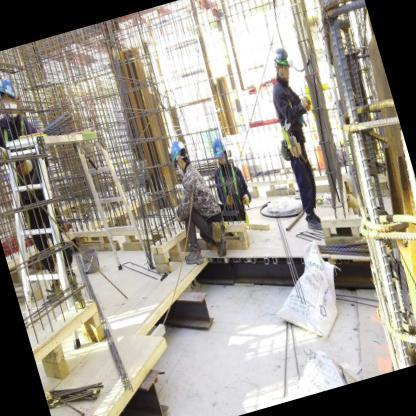safety-shoe: (182, 244, 206, 272), (304, 210, 325, 236), (215, 239, 232, 260)
